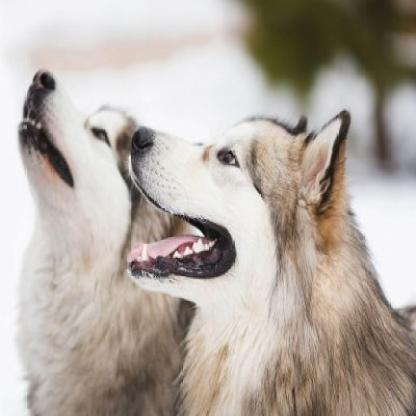dog: (130, 108, 416, 416), (16, 68, 192, 416)
